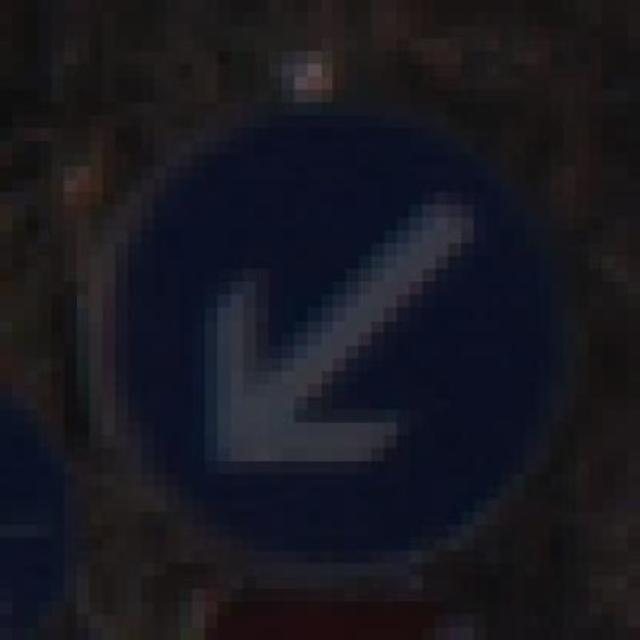Keep-Left: (76, 76, 576, 576)
